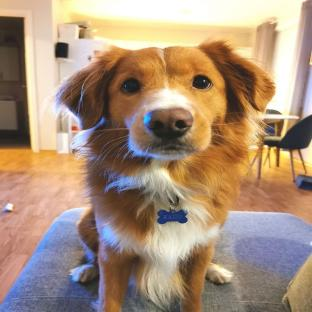Animal: (53, 41, 275, 312)
